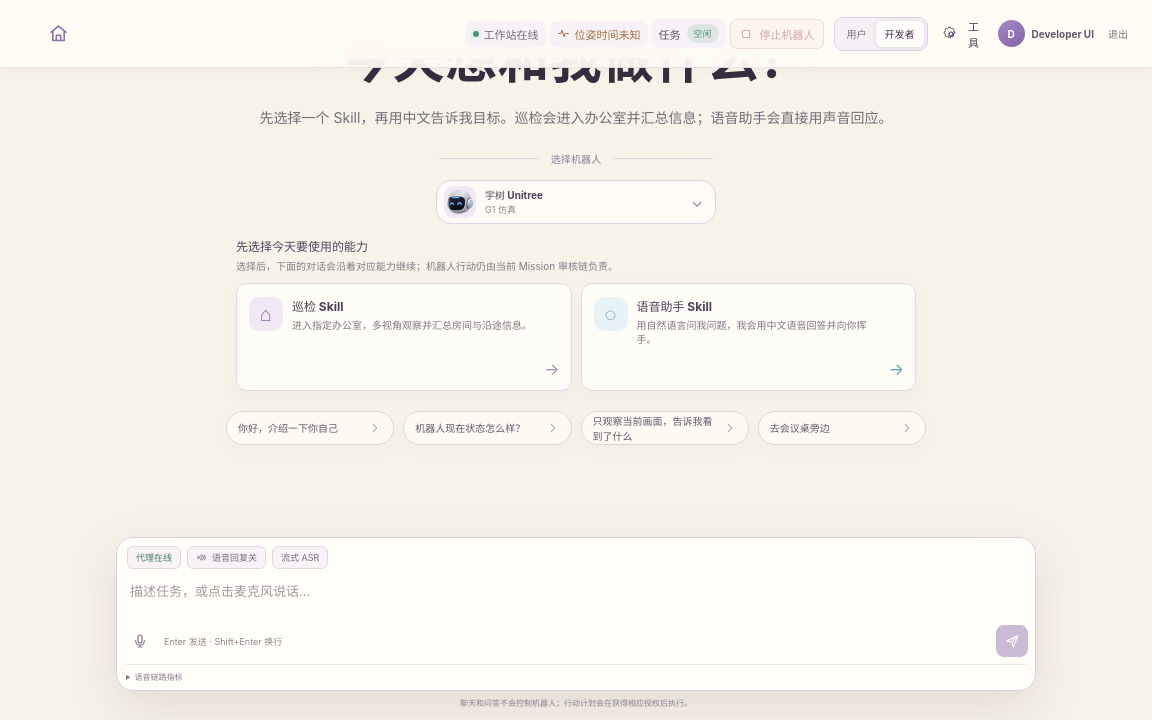
Test case: control console › shows the typed place role and semantic completion before approval
This screenshot has width=1152, height=720.
(page scrolled)
Type "去会议室里观察，看到了什么告诉我" into the text box named "任务描述" at (576, 595), box [117, 569, 1035, 621]
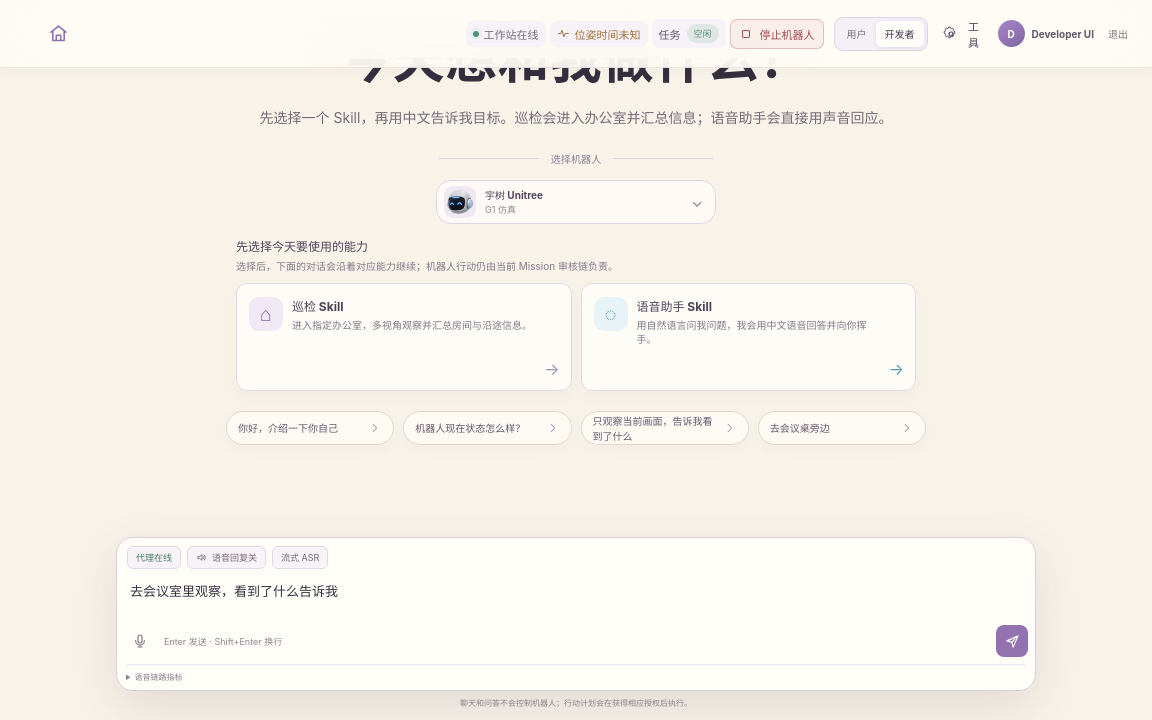
Click the button named "发送给 H-IDE" at (1012, 641), box [996, 625, 1028, 657]
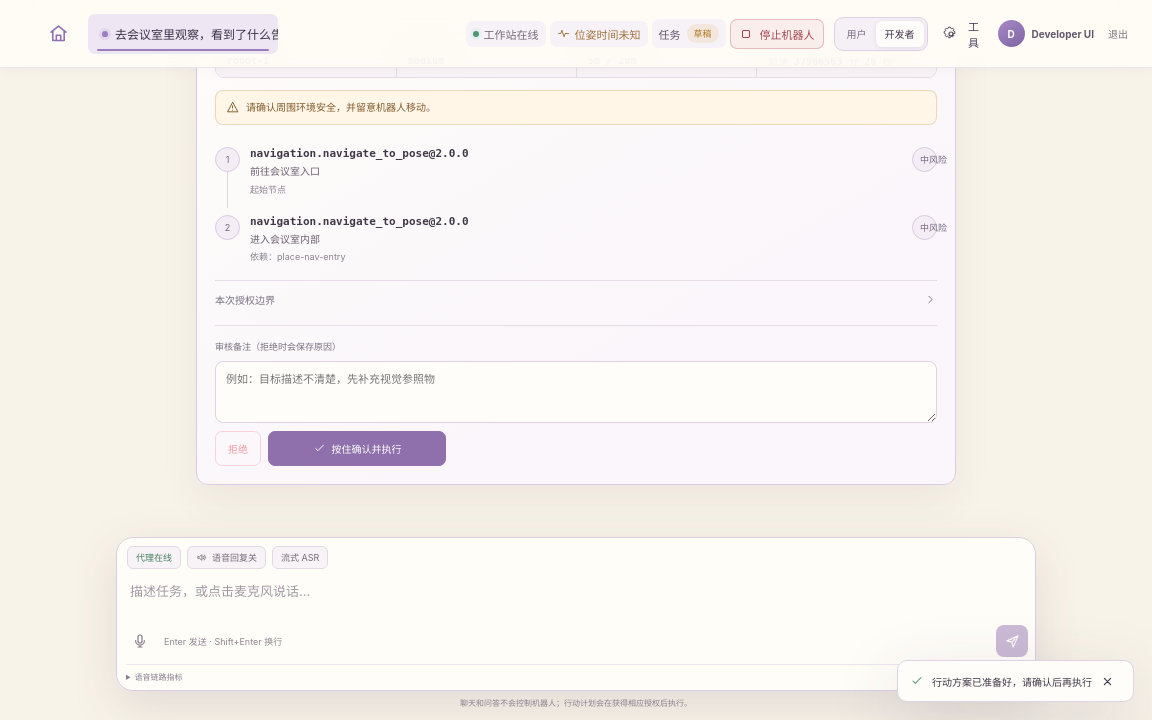
Check: the text "前往会议室入口" is shown, box [250, 165, 320, 177]
Check: the text "进入会议室内部" is shown, box [250, 233, 320, 245]
